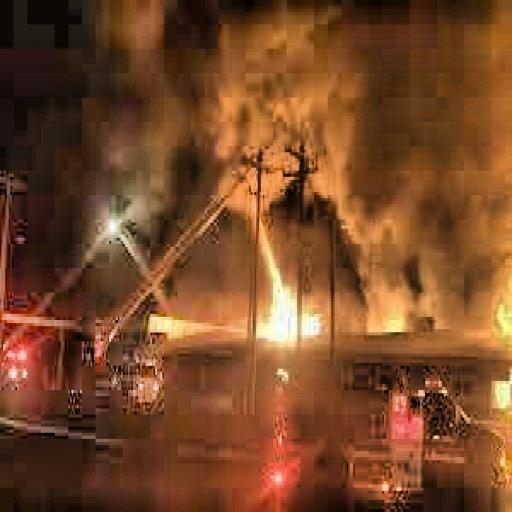fire: (242, 174, 331, 354)
